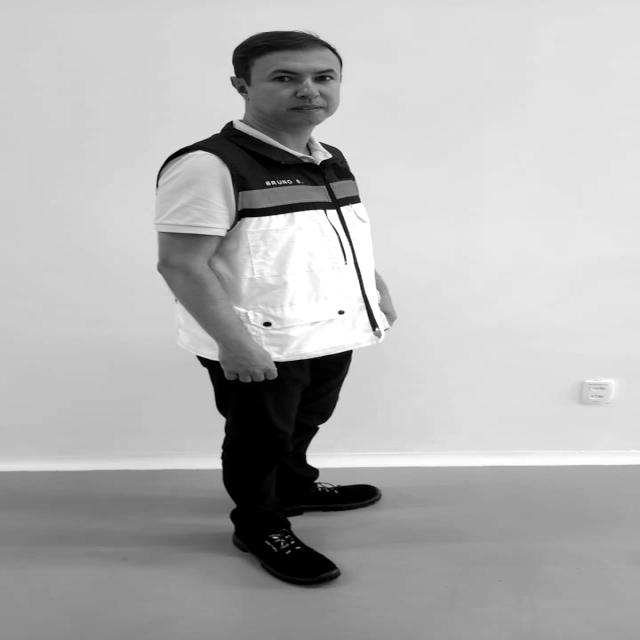Boots: (222, 517, 350, 591), (286, 478, 398, 514)
Vest: (220, 139, 394, 352)
